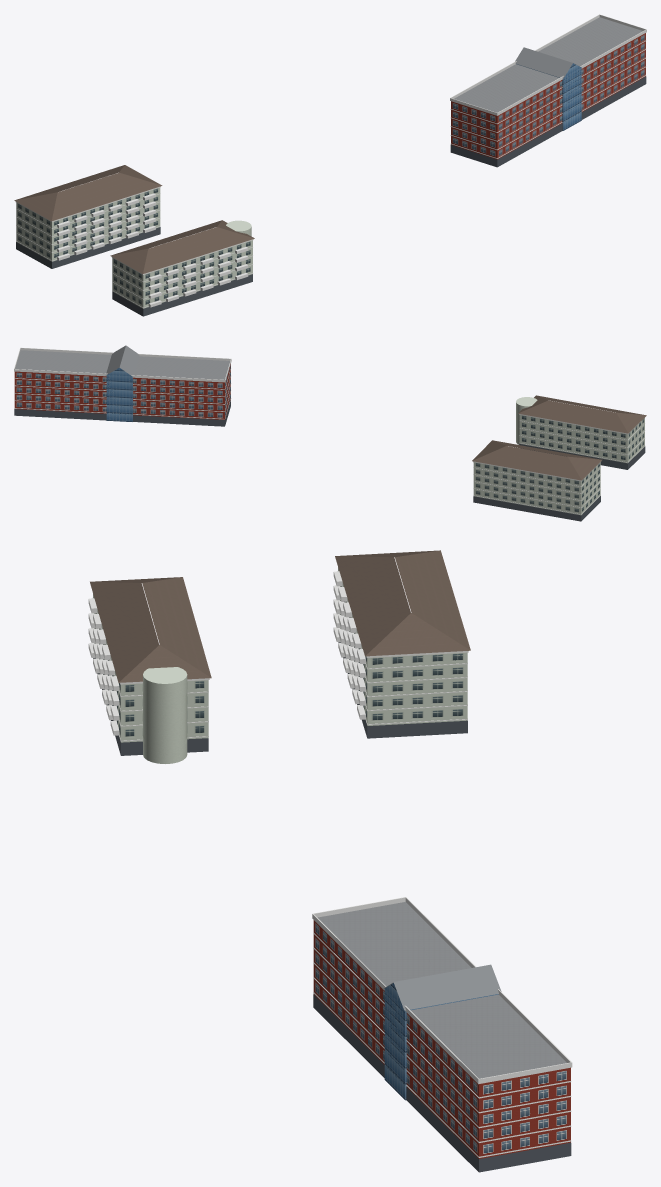
File: dorm_qinyuan_e5.glb
The picture shows the model from 3 angles, top to bottom: view 1: azimuth 30°, elevation 25°; view 2: azimuth 150°, elevation 25°; view 3: azimuth 270°, elevation 25°; orthographic projection. The views are drawn at different scales.
Visible parts, largest first — view 1: 1316148869, 862959359, 862959360; view 2: 1316148869, 862959359, 862959360; view 3: 1316148869, 862959359, 862959360.
Part boxes in pixels (<box>): 1316148869: <box>450,14,646,167</box>; 862959359: <box>14,165,162,268</box>; 862959360: <box>110,220,254,316</box>; 1316148869: <box>14,345,231,426</box>; 862959359: <box>472,440,602,521</box>; 862959360: <box>516,395,646,469</box>; 1316148869: <box>312,897,572,1172</box>; 862959359: <box>333,550,470,738</box>; 862959360: <box>88,577,211,763</box>.
Bounding box in the file's own units: 241 × 22.6 × 91.39.
8 materials, 5 textured.
